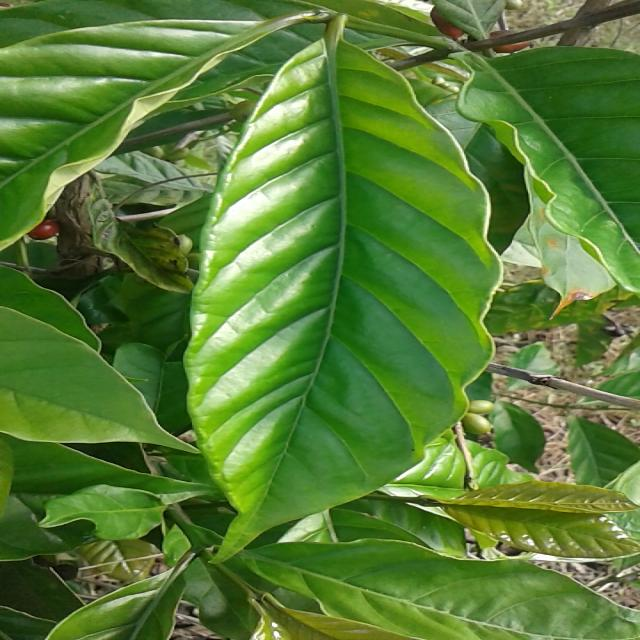Sanas: (183, 15, 640, 561)
